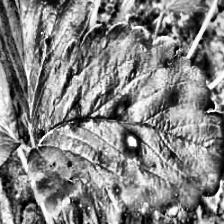Leaf Spot: (26, 21, 224, 224), (0, 0, 96, 135), (0, 21, 22, 179)
